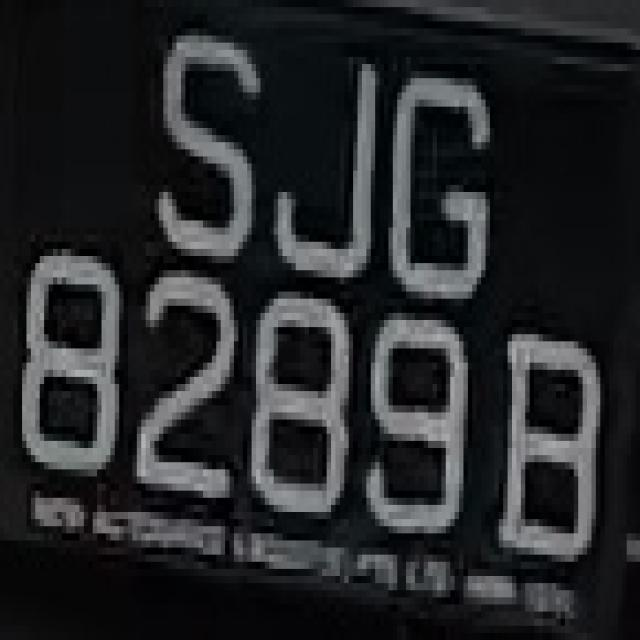2: (132, 228, 243, 512)
8: (8, 213, 124, 505), (243, 256, 353, 519)
9: (367, 292, 472, 548)
B: (498, 320, 614, 569)
G: (375, 50, 503, 327)
J: (265, 28, 384, 306)
S: (132, 22, 265, 284)
